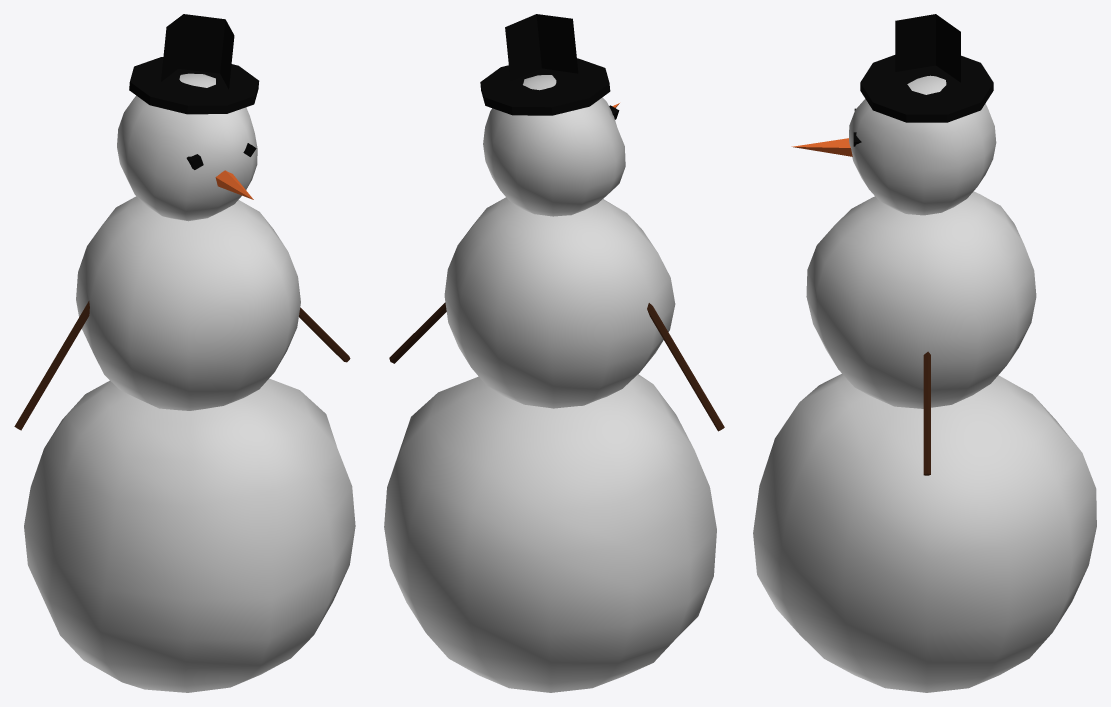
Rendered from snowman.fbx.
3 views of the same model, side by side, from view 1: azimuth 30°, elevation 25°; view 2: azimuth 150°, elevation 25°; view 3: azimuth 270°, elevation 25° (orthographic).
Parts seen in each view (by area): view 1: Sphere, Sphere.001, Sphere.002, Cylinder.003, Cylinder, Cylinder.001; view 2: Sphere, Sphere.001, Sphere.002, Cylinder.003, Cylinder, Cylinder.001; view 3: Sphere, Sphere.001, Sphere.002, Cylinder.003, Cylinder.001, Cone.
Boxes of the visible parts, x1,y1,x2,y2 form: Sphere: [24, 378, 355, 692]; Sphere.001: [76, 196, 300, 410]; Sphere.002: [117, 73, 257, 221]; Cylinder.003: [129, 14, 259, 114]; Cylinder: [14, 301, 89, 430]; Cylinder.001: [299, 307, 350, 362]; Sphere: [384, 374, 716, 692]; Sphere.001: [444, 197, 675, 408]; Sphere.002: [483, 75, 625, 216]; Cylinder.003: [480, 14, 610, 115]; Cylinder: [647, 303, 724, 431]; Cylinder.001: [389, 302, 446, 363]; Sphere: [753, 374, 1096, 692]; Sphere.001: [806, 191, 1036, 408]; Sphere.002: [849, 75, 996, 215]; Cylinder.003: [860, 14, 993, 122]; Cylinder.001: [923, 351, 930, 475]; Cone: [791, 138, 852, 156].
Size of the model in its own units: 232 by 431 by 205.
